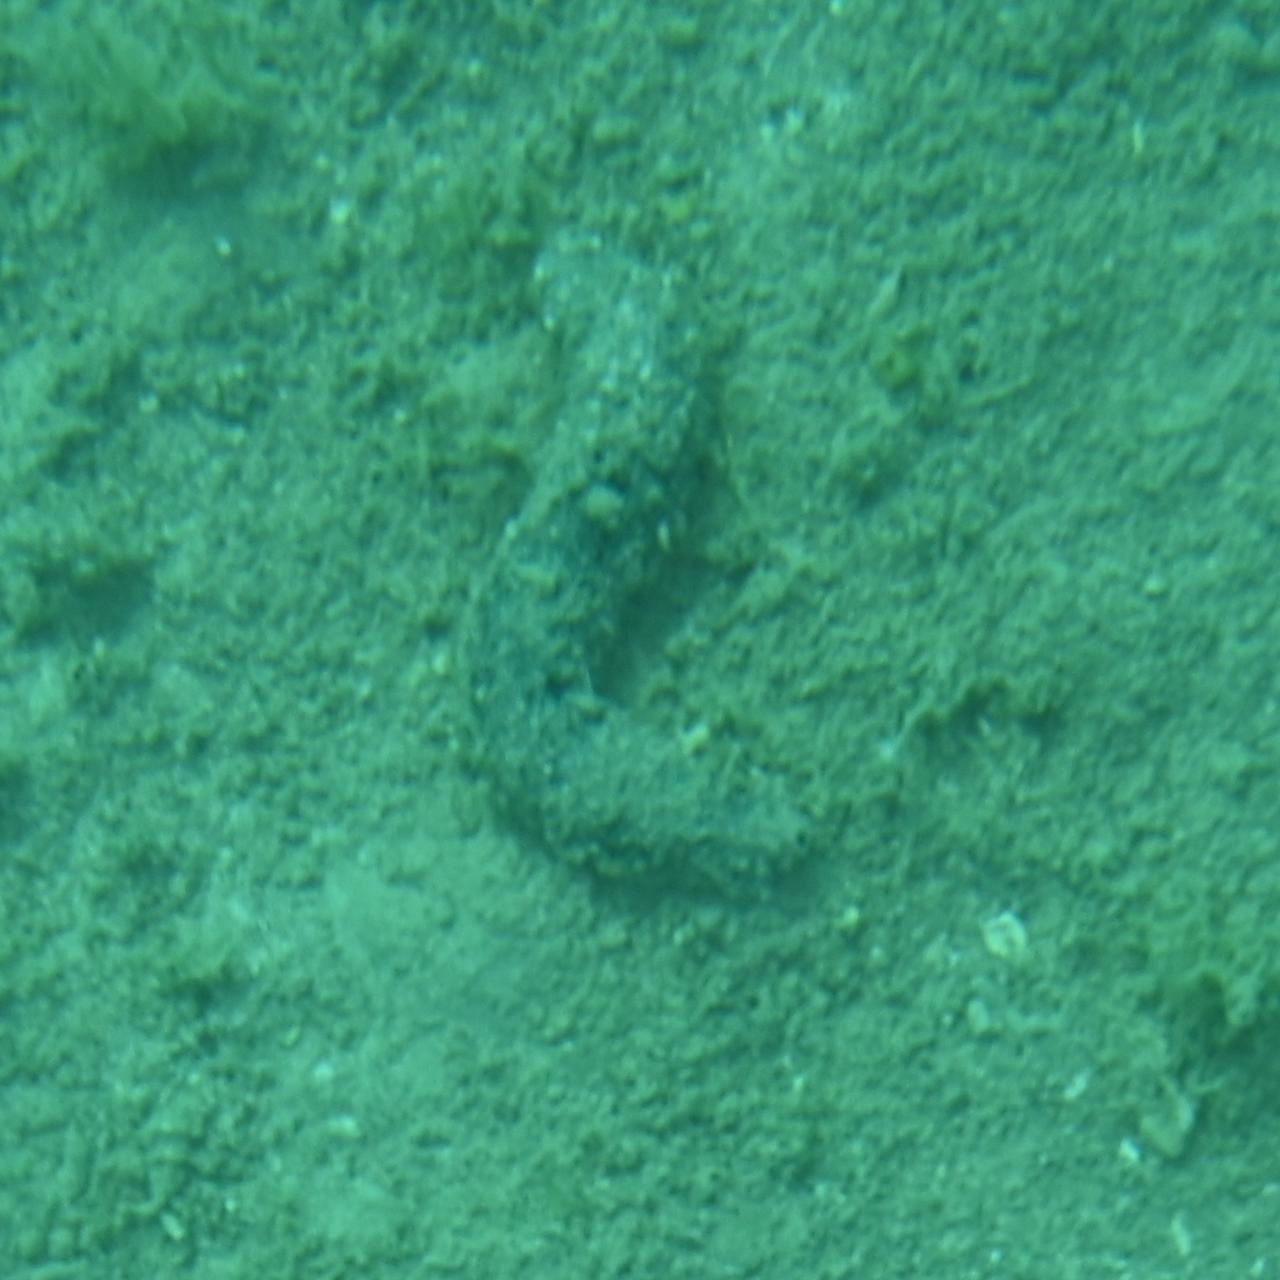Holothuria tubulosa: (444, 218, 836, 906)
